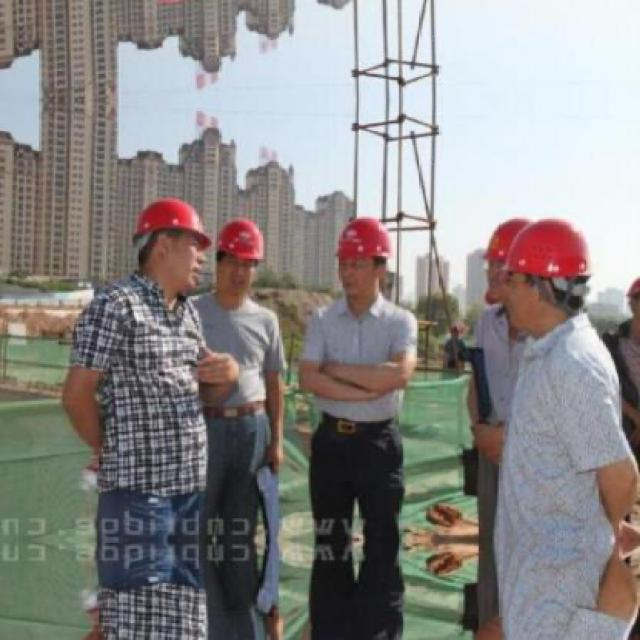helmet: (505, 216, 592, 331), (131, 196, 206, 293), (332, 216, 396, 307), (211, 214, 269, 301), (482, 219, 520, 310)
